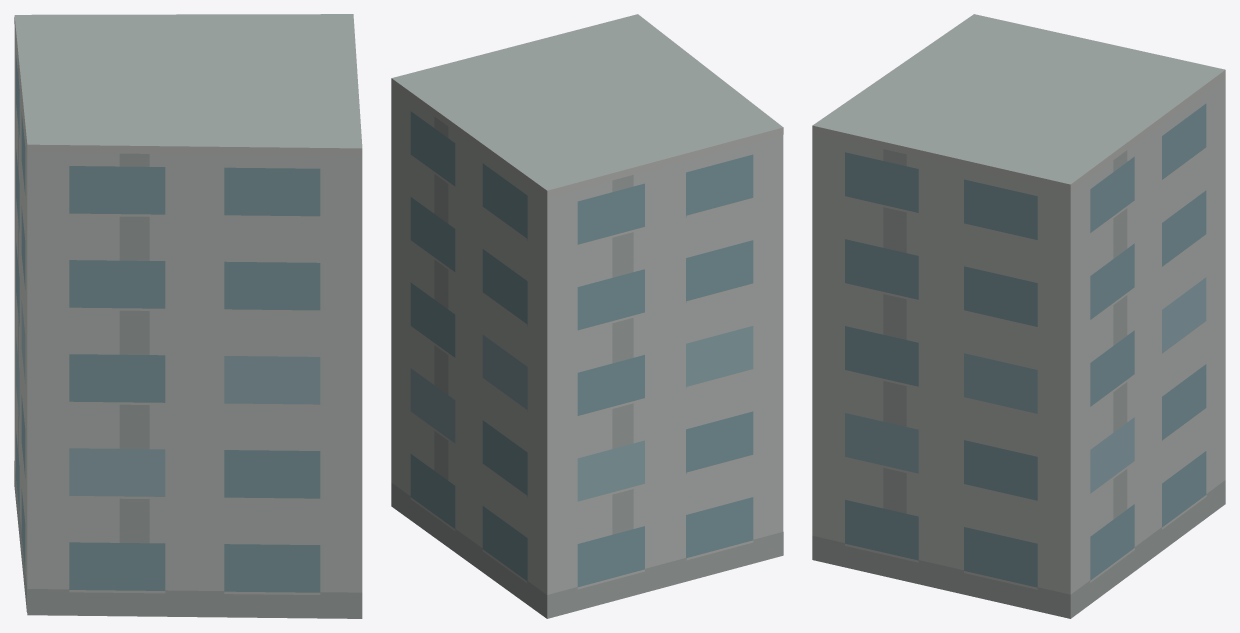
File: survey-upis-32569602.glb
The picture shows the model from 3 angles, left to right: view 1: azimuth 30°, elevation 25°; view 2: azimuth 150°, elevation 25°; view 3: azimuth 270°, elevation 25°; orthographic projection. The views are drawn at different scales.
Visible parts, largest first — view 1: survey-upis-32569602.tmp; view 2: survey-upis-32569602.tmp; view 3: survey-upis-32569602.tmp.
Part boxes in pixels (<box>): survey-upis-32569602.tmp: <box>14,14,362,618</box>; survey-upis-32569602.tmp: <box>391,14,783,618</box>; survey-upis-32569602.tmp: <box>812,14,1225,618</box>.
Bounding box in the file's own units: 12.22 × 14.5 × 12.51.
